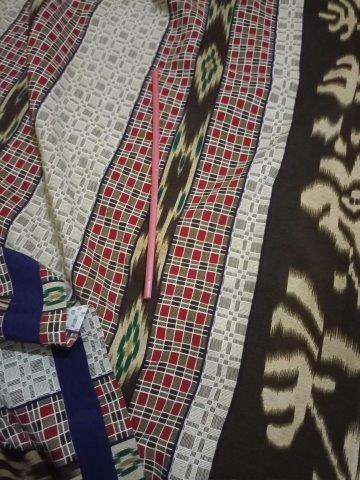sedotan: (144, 70, 160, 298)
